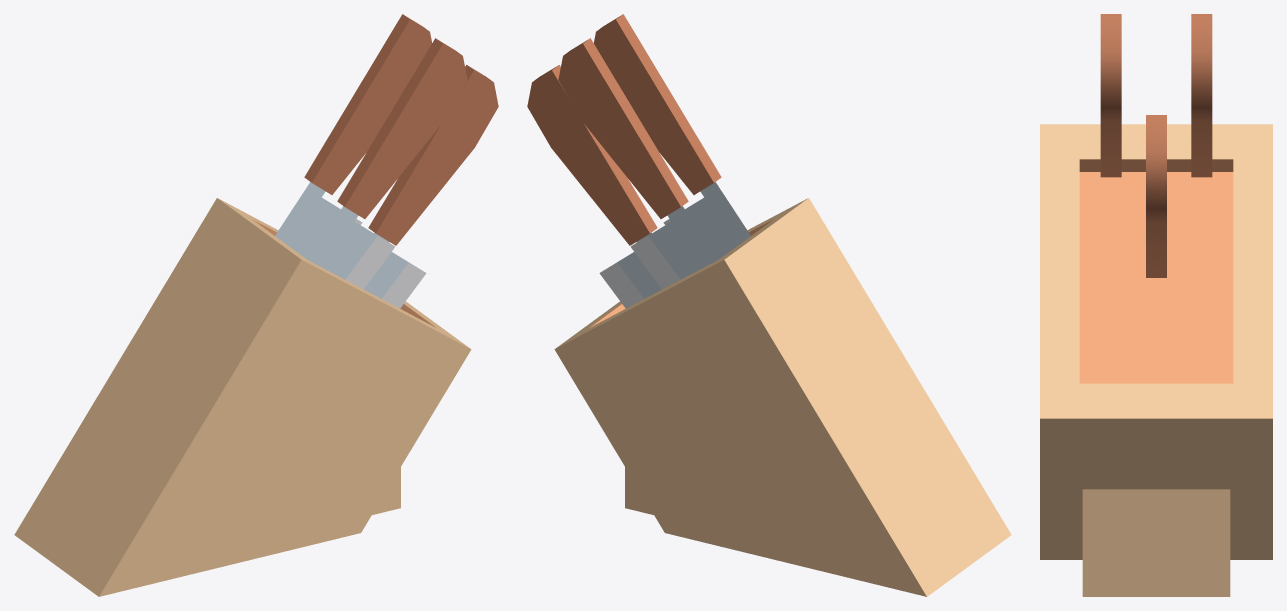
File: Knife_Block.glb
3 renders of one model, left to right at view 1: azimuth 30°, elevation 25°; view 2: azimuth 150°, elevation 25°; view 3: azimuth 270°, elevation 25°, orthographic. The views are drawn at different scales.
Parts seen in each view (by area): view 1: knifeBlock; view 2: knifeBlock; view 3: knifeBlock.
Part boxes in pixels (x1,y1,x2,y2): knifeBlock: (14, 14, 498, 596); knifeBlock: (527, 14, 1011, 596); knifeBlock: (1040, 14, 1272, 596).
Size of the model in its own units: 0.6628 by 0.6472 by 0.2218.
